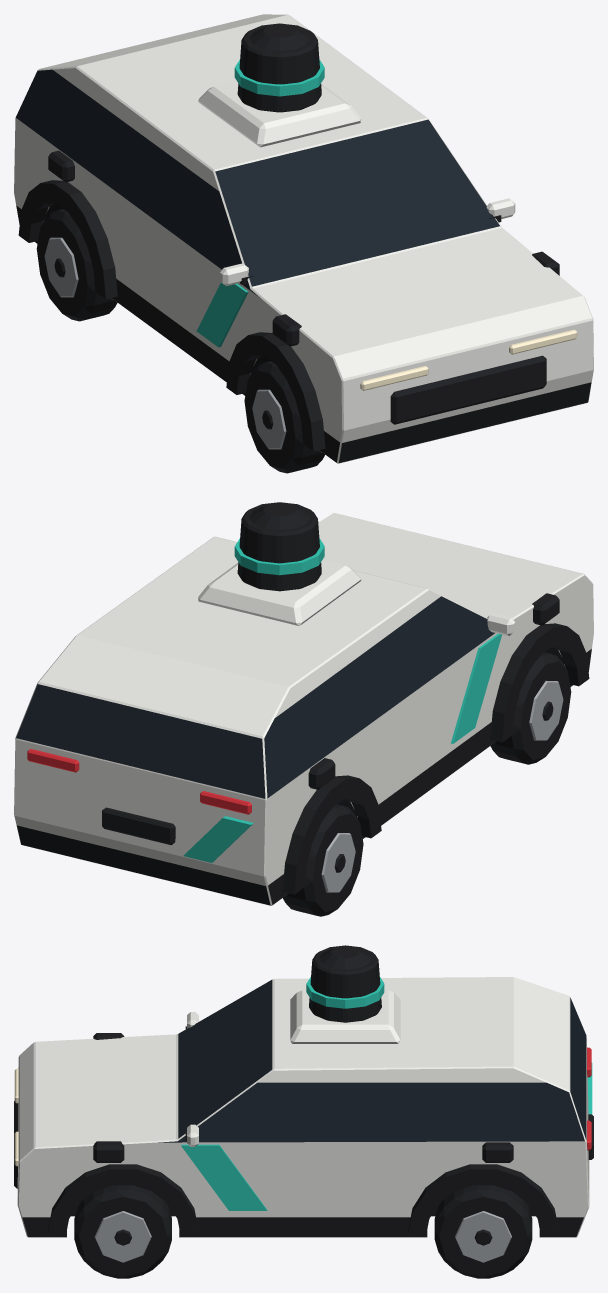
The model's file is cab.glb.
The picture shows the model from 3 angles, top to bottom: view 1: azimuth 30°, elevation 25°; view 2: azimuth 150°, elevation 25°; view 3: azimuth 270°, elevation 25°; orthographic projection. The views are drawn at different scales.
Parts seen in each view (by area): view 1: body, lidar, wheel_RR, wheel_FR; view 2: body, lidar, wheel_RR, wheel_FR; view 3: body, wheel_RL, wheel_FL, lidar.
Part boxes in pixels (left/top/right/bottom): body: left=14, top=14, right=593, bottom=463; lidar: left=234, top=23, right=324, bottom=112; wheel_RR: left=36, top=209, right=117, bottom=321; wheel_FR: left=244, top=361, right=324, bottom=473; body: left=14, top=513, right=593, bottom=905; lidar: left=234, top=502, right=324, bottom=591; wheel_RR: left=283, top=804, right=363, bottom=916; wheel_FR: left=490, top=652, right=571, bottom=764; body: left=14, top=977, right=593, bottom=1237; wheel_RL: left=434, top=1185, right=532, bottom=1278; wheel_FL: left=74, top=1185, right=171, bottom=1278; lidar: left=306, top=945, right=384, bottom=1022.
Bounding box in the file's own units: 2.44 × 2.49 × 4.83.
